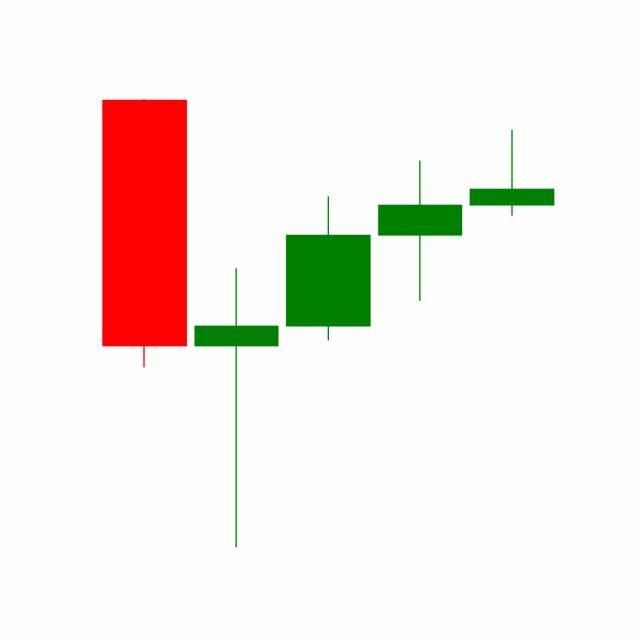Spinning Top: (374, 159, 468, 303)
